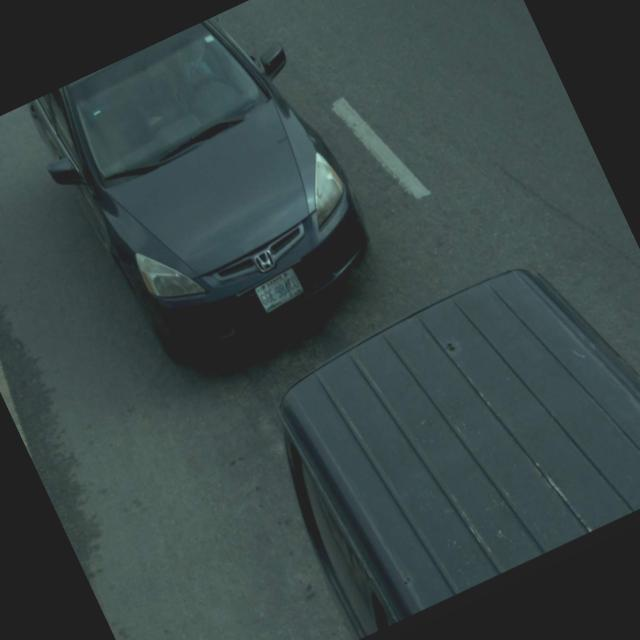windshield: (55, 15, 278, 192)
